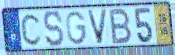5: (133, 6, 154, 44)
B: (109, 7, 133, 46)
C: (20, 12, 43, 48)
G: (65, 10, 88, 46)
S: (42, 9, 65, 48)
V: (85, 8, 109, 45)
